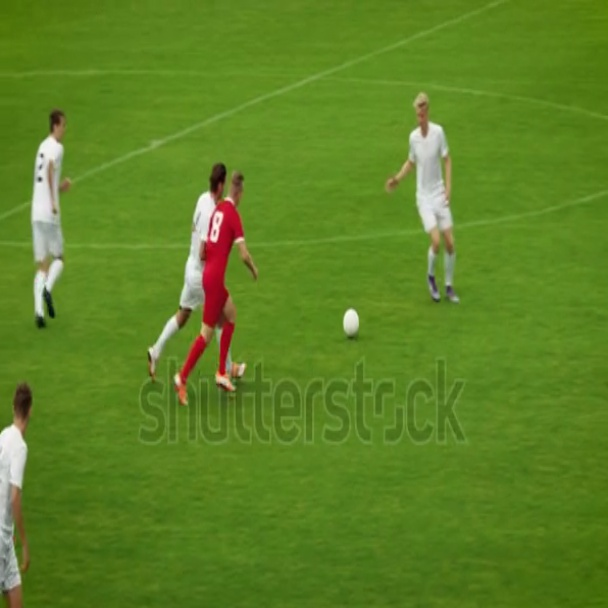ball: (344, 306, 362, 342)
